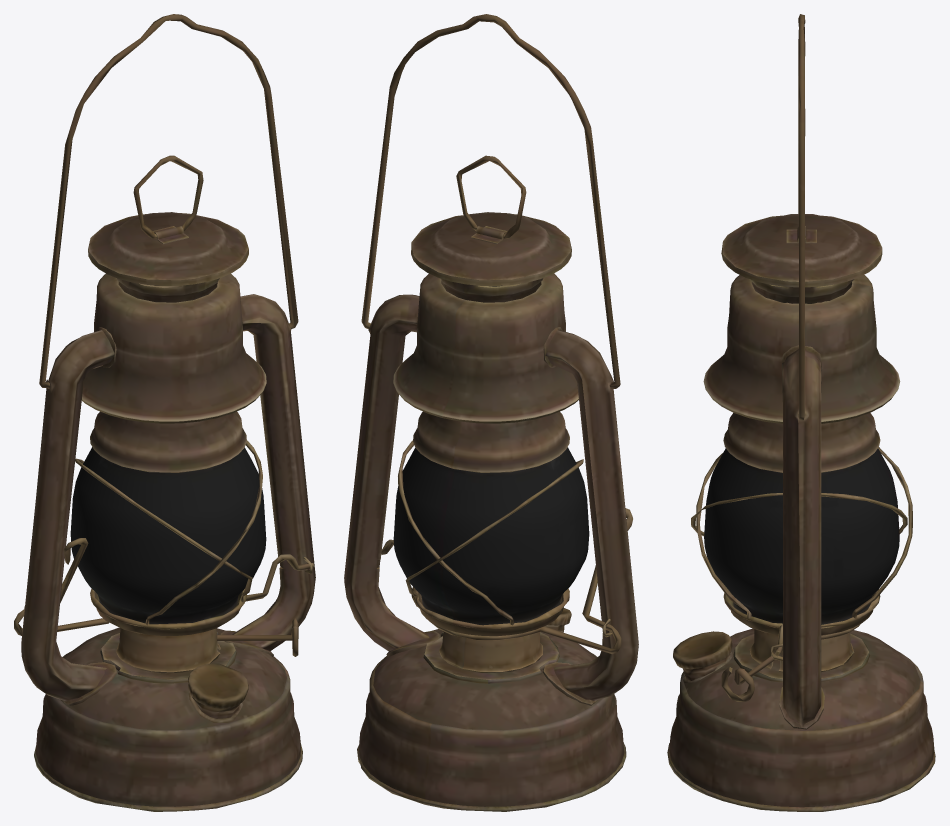
Rendered from lantern_01.glb.
3 renders of one model, left to right at view 1: azimuth 30°, elevation 25°; view 2: azimuth 150°, elevation 25°; view 3: azimuth 270°, elevation 25°, orthographic.
Parts seen in each view (by area): view 1: Lantern_01, Lantern_01_glass; view 2: Lantern_01, Lantern_01_glass; view 3: Lantern_01, Lantern_01_glass.
Part boxes in pixels (bbox=[...]): Lantern_01: bbox=[14, 14, 315, 811]; Lantern_01_glass: bbox=[70, 447, 266, 624]; Lantern_01: bbox=[344, 14, 638, 811]; Lantern_01_glass: bbox=[393, 447, 589, 625]; Lantern_01: bbox=[667, 14, 935, 811]; Lantern_01_glass: bbox=[704, 448, 899, 624].
Size of the model in its own units: 0.1219 by 0.2939 by 0.0967.
2 materials, 2 textured.
